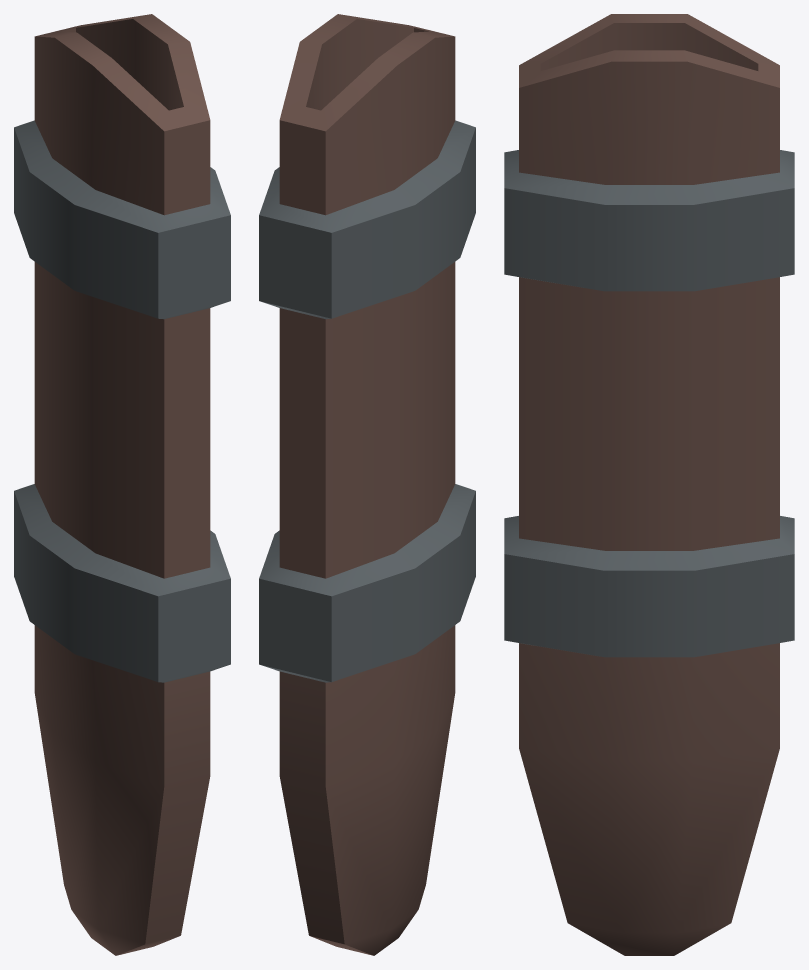
Rendered from iron_sword_sheath.gltf.glb.
3 renders of one model, left to right at view 1: azimuth 30°, elevation 25°; view 2: azimuth 150°, elevation 25°; view 3: azimuth 270°, elevation 25°, orthographic.
Parts seen in each view (by area): view 1: iron_sword_sheath; view 2: iron_sword_sheath; view 3: iron_sword_sheath.
Part boxes in pixels (box(x1,y1,x2,y2)): iron_sword_sheath: box(14, 14, 230, 955); iron_sword_sheath: box(259, 14, 475, 955); iron_sword_sheath: box(504, 14, 794, 955).
Size of the model in its own units: 0.1314 by 0.8063 by 0.2332.
